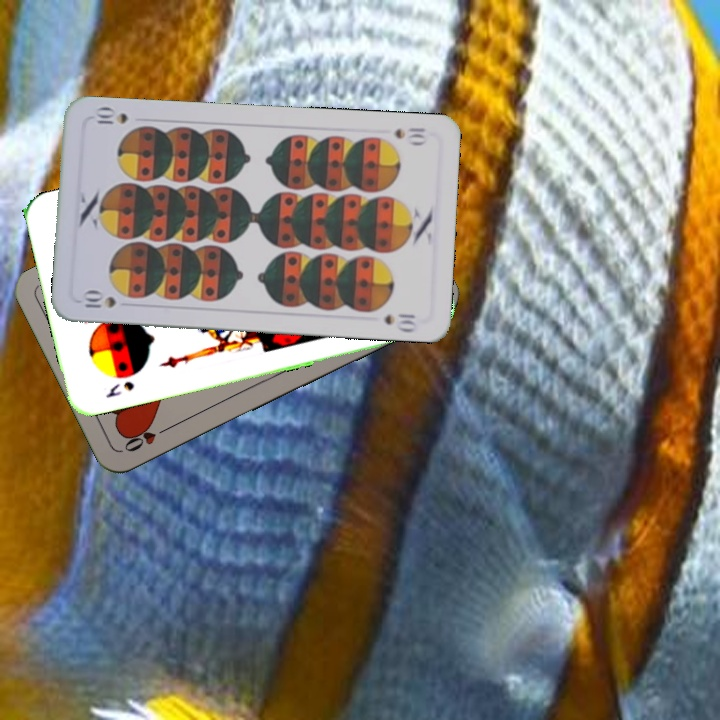HO: (120, 421, 174, 455)
S10: (390, 123, 429, 147), (81, 289, 118, 311)
SK: (102, 377, 137, 401)
